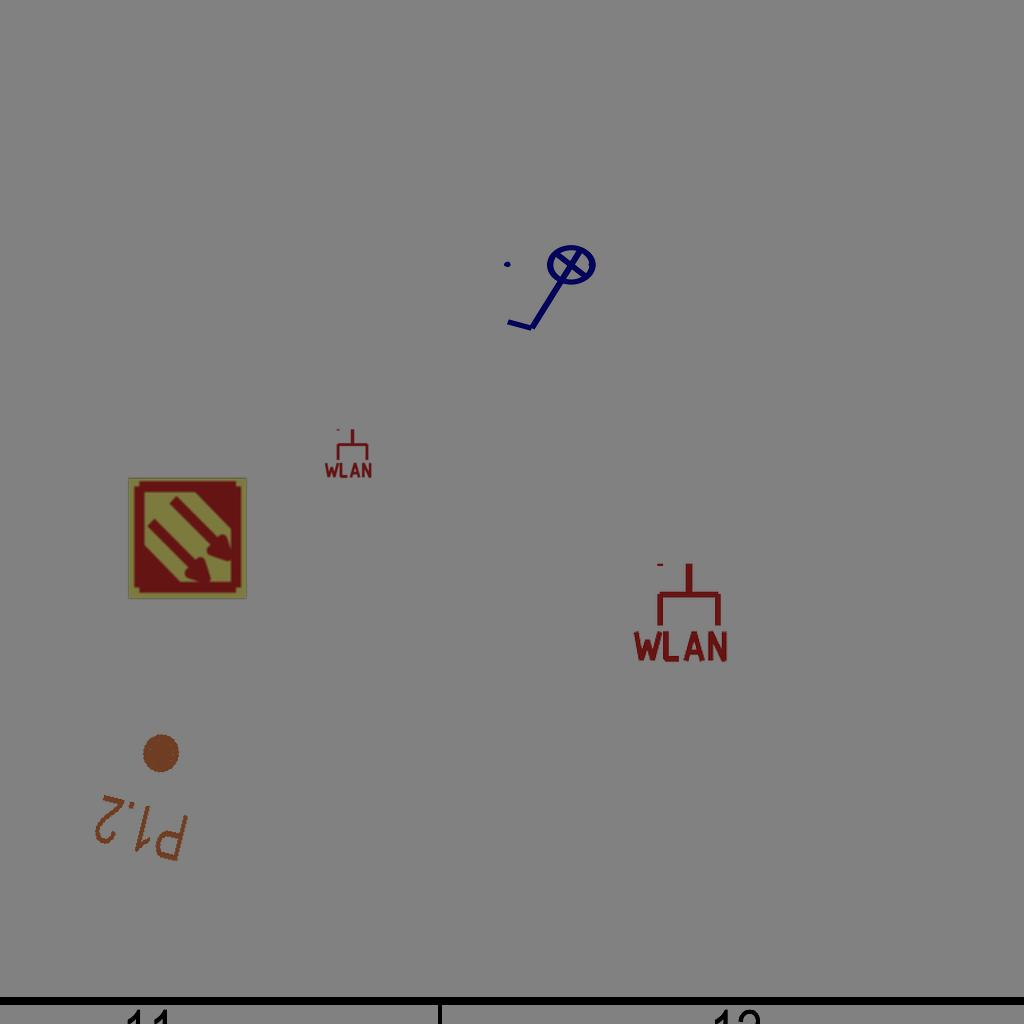ASR_Ansaugrauchmelder: (125, 476, 250, 601)
Ausschalter_beleuchtet: (498, 243, 610, 339)
Downlight_LED_Einbauleuchten_Flur: (88, 719, 211, 867)
WLAN: (628, 559, 732, 664), (322, 427, 374, 479)
